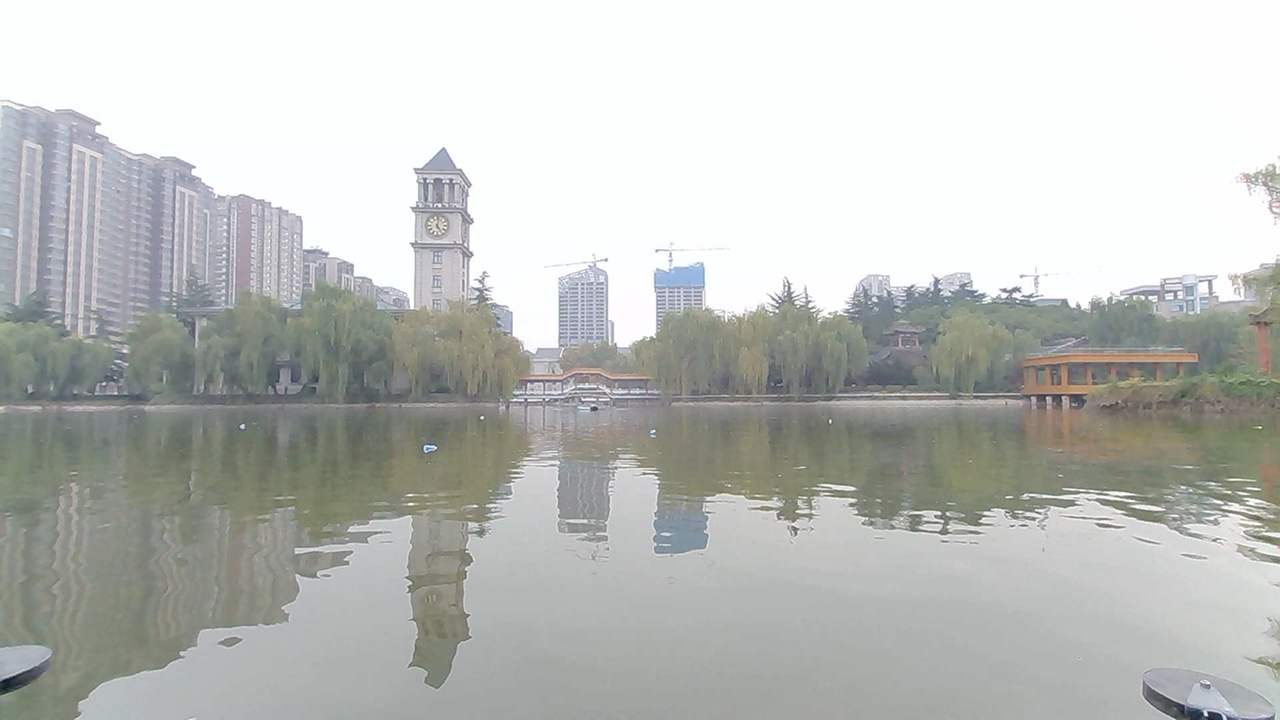bottle: (631, 416, 665, 443), (226, 411, 264, 435), (811, 408, 841, 434), (413, 441, 450, 462), (467, 402, 496, 424)
